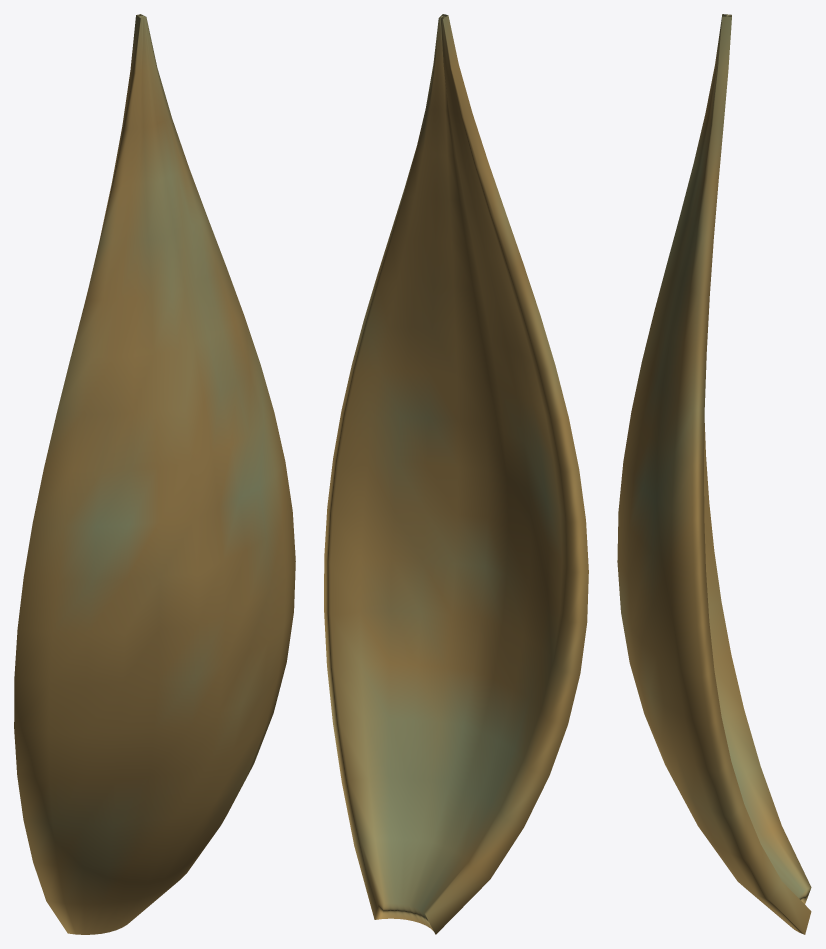
The model's file is mech_bud_petal.glb.
The picture shows the model from 3 angles, left to right: view 1: azimuth 30°, elevation 25°; view 2: azimuth 150°, elevation 25°; view 3: azimuth 270°, elevation 25°; orthographic projection. The views are drawn at different scales.
Parts seen in each view (by area): view 1: mech_bud_petal_LOD0; view 2: mech_bud_petal_LOD0; view 3: mech_bud_petal_LOD0.
Part boxes in pixels (<box>): mech_bud_petal_LOD0: <box>14,14,295,934</box>; mech_bud_petal_LOD0: <box>324,14,588,934</box>; mech_bud_petal_LOD0: <box>617,14,811,934</box>.
Size of what is drawn, in the model's own units: 0.3784 by 1.21 by 0.2361.
